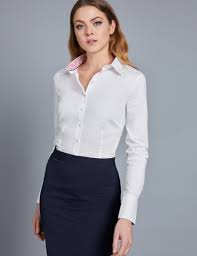F_shirt: (45, 53, 148, 220)
F_tailored skirt: (36, 144, 124, 251)
